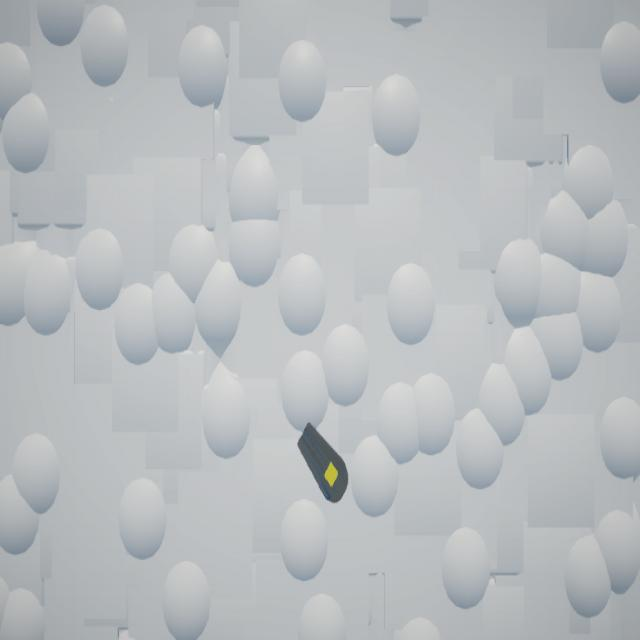handle_folk: (299, 423, 350, 504)
